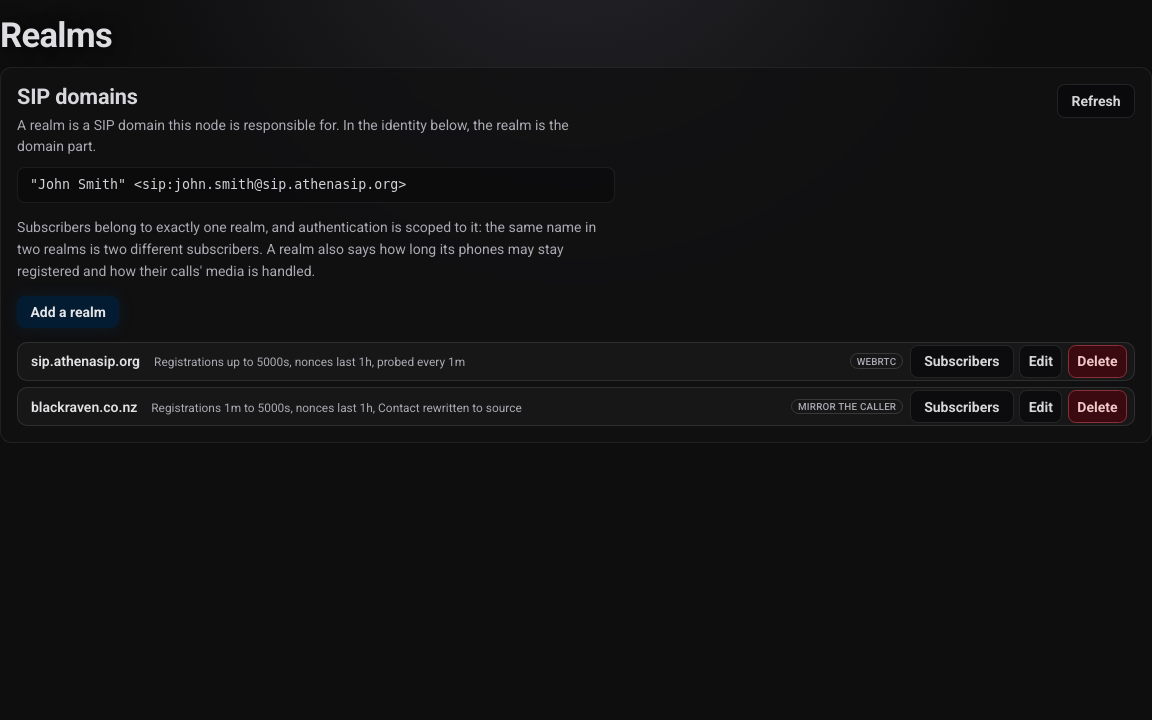
Scenario: RealmsScreen › edits a realm without offering to rename it
This screenshot has width=1152, height=720.
Click the button with aria-label "Edit blackraven.co.nz" at (1041, 406), box left=1019, top=390, right=1062, bottom=423
(page scrolled)
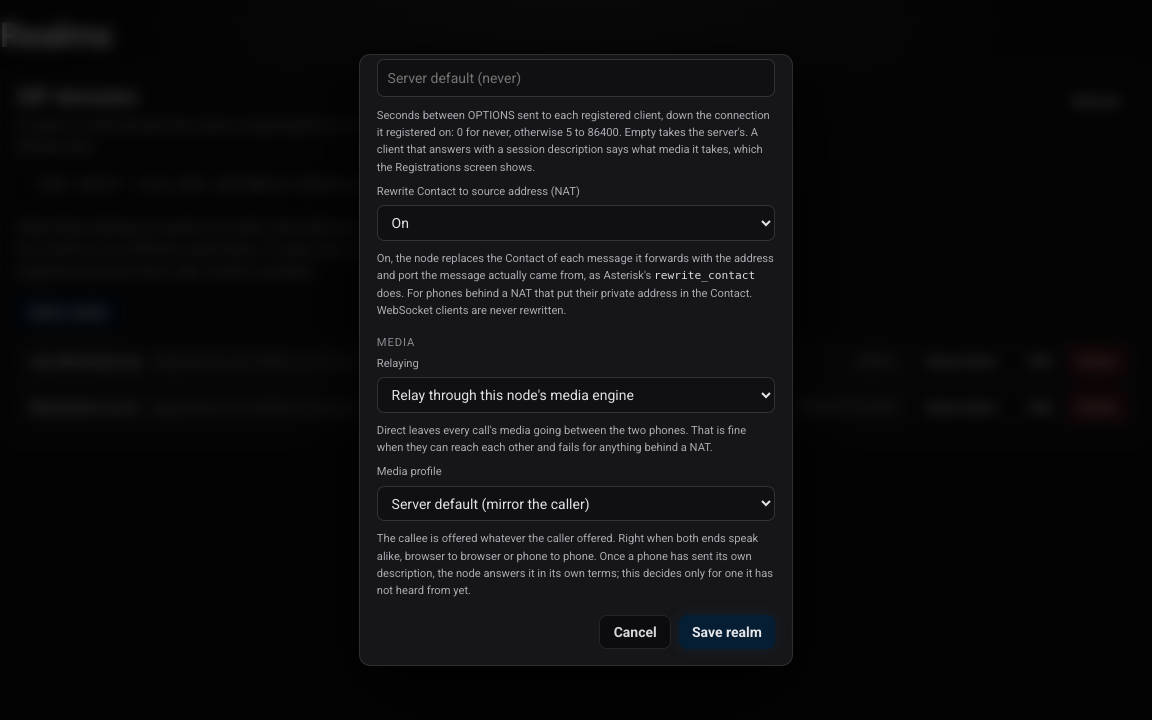
Select "Direct between the phones" in the dropdown labelled "Relaying" at (576, 395), box left=377, top=377, right=775, bottom=413
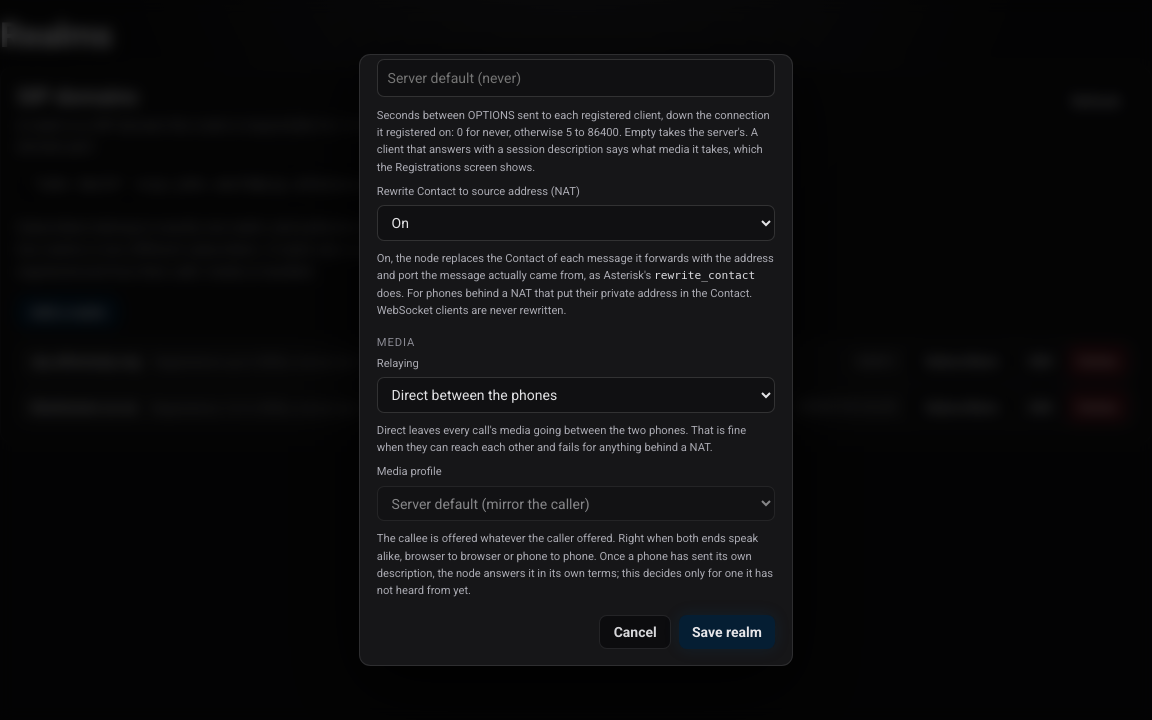
Result: the dropdown labelled "Media profile" is disabled at left=377, top=486, right=775, bottom=521
Click the button "Save realm" at (727, 632), box left=679, top=615, right=775, bottom=648
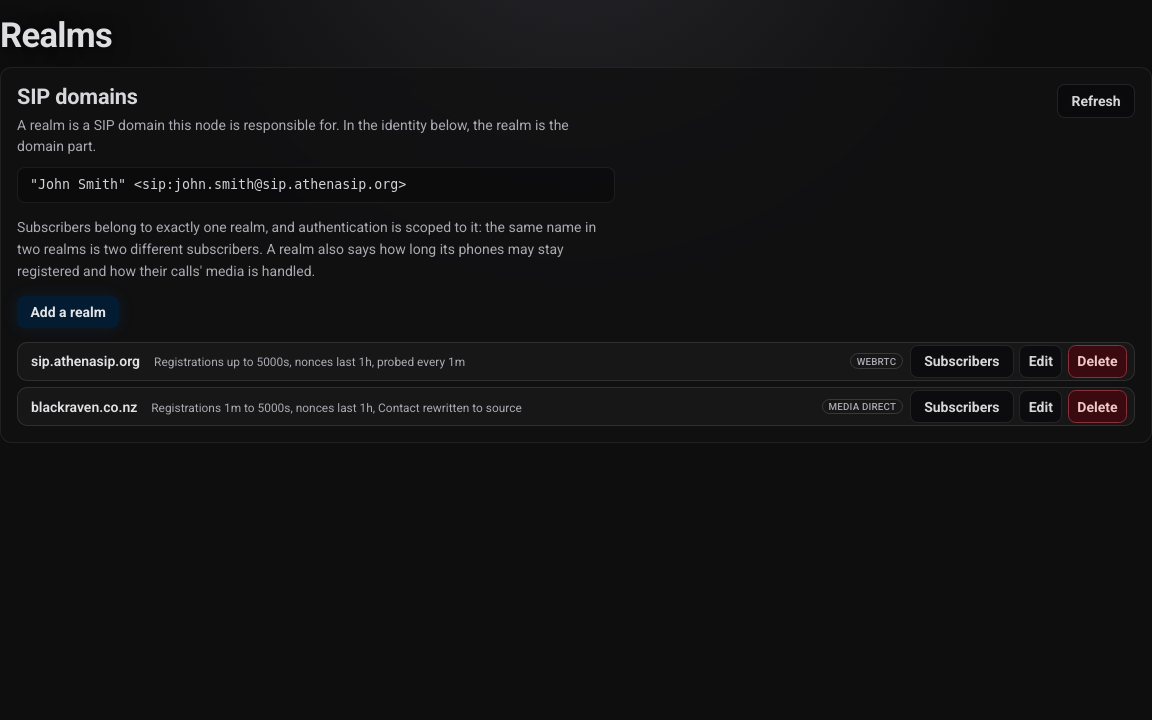
Result: the dialog is gone
